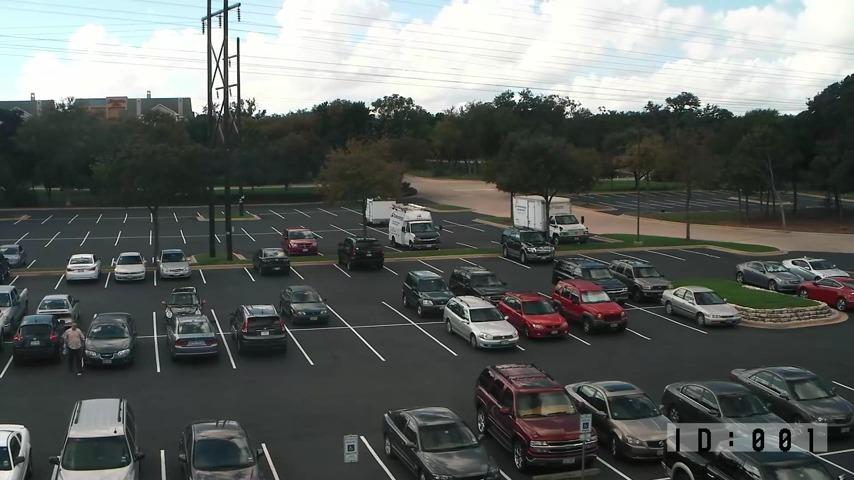empty: (260, 414, 389, 479), (358, 325, 450, 365), (331, 286, 410, 322), (624, 305, 702, 340), (291, 329, 370, 362), (200, 263, 257, 287), (422, 253, 476, 273), (217, 290, 260, 314), (295, 261, 346, 281), (101, 294, 150, 314), (7, 271, 64, 288), (468, 253, 526, 269), (514, 274, 556, 293), (387, 253, 432, 270), (433, 220, 479, 233), (648, 247, 704, 257), (34, 251, 71, 266), (583, 250, 629, 261), (115, 236, 152, 249), (315, 229, 355, 241), (180, 235, 222, 246), (208, 222, 245, 234), (83, 236, 119, 248), (216, 234, 258, 244), (240, 220, 275, 232), (246, 206, 280, 218), (16, 213, 53, 224), (319, 239, 346, 254), (49, 237, 85, 248), (88, 226, 121, 237), (152, 236, 184, 247), (173, 210, 202, 222), (150, 226, 184, 236), (302, 217, 336, 227), (16, 237, 53, 246), (149, 211, 179, 222), (240, 244, 263, 258), (120, 225, 152, 235), (26, 226, 61, 235), (331, 217, 366, 226), (126, 211, 152, 223), (277, 207, 308, 217), (269, 220, 303, 229), (620, 253, 670, 259), (182, 225, 214, 234), (327, 206, 358, 215), (49, 213, 74, 224), (347, 227, 386, 234), (249, 232, 282, 240), (80, 246, 109, 255), (59, 227, 90, 235), (102, 212, 124, 223), (303, 208, 332, 216), (74, 214, 99, 223)
occupied: (465, 362, 609, 475), (562, 381, 698, 464), (661, 377, 806, 452), (368, 401, 507, 479), (731, 362, 854, 438), (50, 396, 142, 480), (180, 415, 261, 480), (434, 292, 520, 353), (551, 279, 627, 335), (496, 289, 574, 343), (225, 303, 294, 356), (661, 285, 742, 326), (14, 312, 71, 367), (83, 311, 135, 367), (166, 310, 222, 360), (503, 225, 559, 269), (388, 204, 441, 250), (612, 260, 670, 302), (402, 271, 454, 317), (448, 267, 508, 305), (736, 261, 803, 295), (281, 285, 335, 326), (797, 276, 854, 311), (554, 257, 623, 285), (337, 237, 386, 273), (36, 295, 80, 324), (160, 287, 200, 318), (253, 247, 290, 277), (66, 253, 101, 284), (284, 227, 320, 257), (158, 249, 191, 278), (115, 252, 146, 281)
